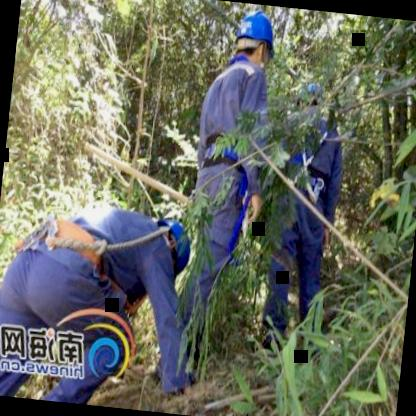helmet: (150, 210, 195, 280), (232, 6, 278, 72)
